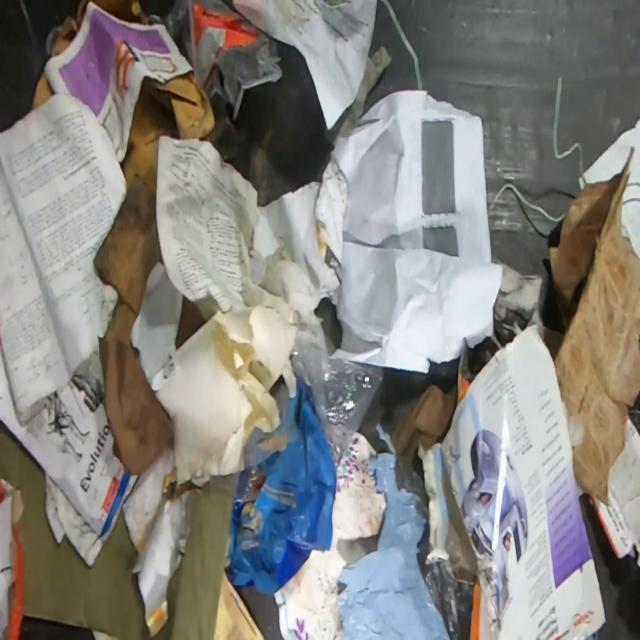cardboard: (1, 422, 241, 639), (550, 147, 640, 508), (93, 169, 174, 481), (119, 76, 214, 217), (48, 0, 149, 58), (30, 70, 55, 109)
rigid_plastic: (149, 0, 284, 161), (21, 0, 62, 83)
soft_plastic: (336, 420, 474, 640), (224, 372, 335, 594), (290, 333, 385, 464)
